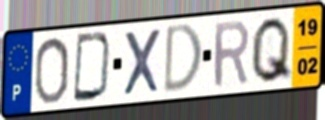D: (161, 21, 205, 97), (71, 31, 114, 104)
O: (32, 34, 71, 106)
Q: (248, 14, 294, 86)
R: (212, 17, 251, 91)
X: (121, 26, 163, 99)
